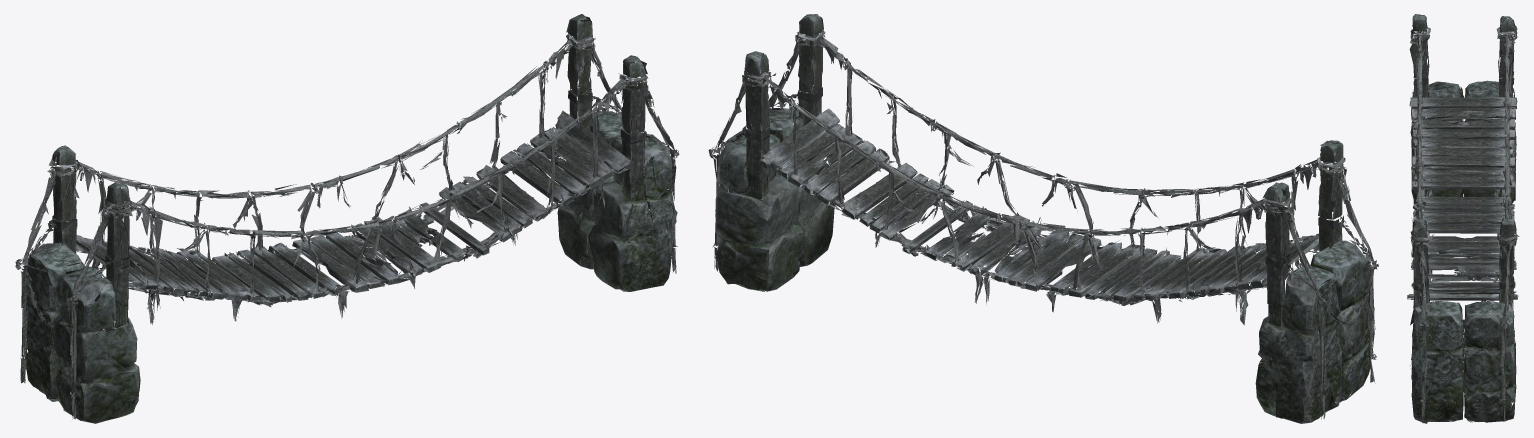
The model's file is bridge.glb.
The picture shows the model from 3 angles, left to right: view 1: azimuth 30°, elevation 25°; view 2: azimuth 150°, elevation 25°; view 3: azimuth 270°, elevation 25°; orthographic projection. The views are drawn at different scales.
Visible parts, largest first — view 1: Mesh_0; view 2: Mesh_0; view 3: Mesh_0.
Part boxes in pixels (box(x1,y1,x2,y2)): Mesh_0: box(15, 14, 679, 423); Mesh_0: box(708, 14, 1378, 423); Mesh_0: box(1407, 14, 1519, 423).
Bounding box in the file's own units: 8.98 × 3.29 × 1.75.
1 material, 1 textured.
